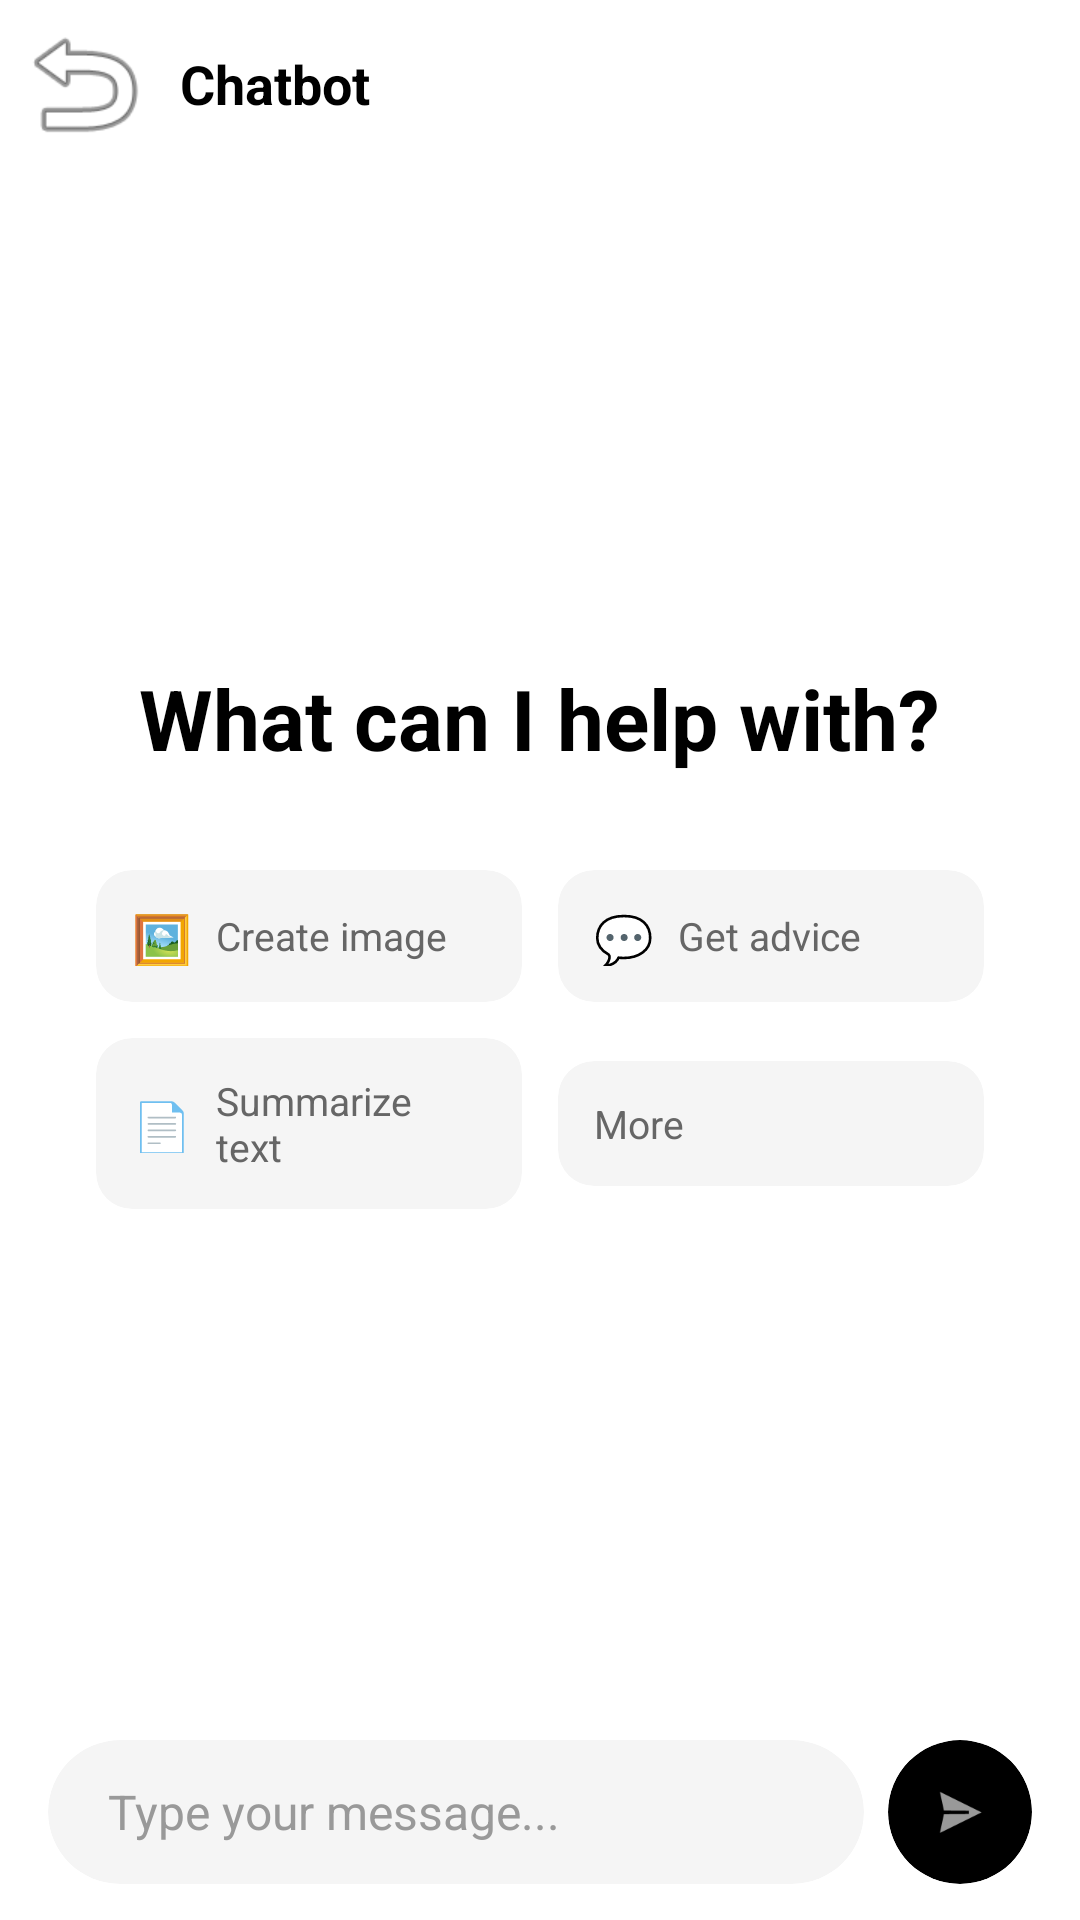

Icon click points for this 1080w x 1920h phone screenshot, format (x,y):
Back: (86,85)
Send: (960,1812)
